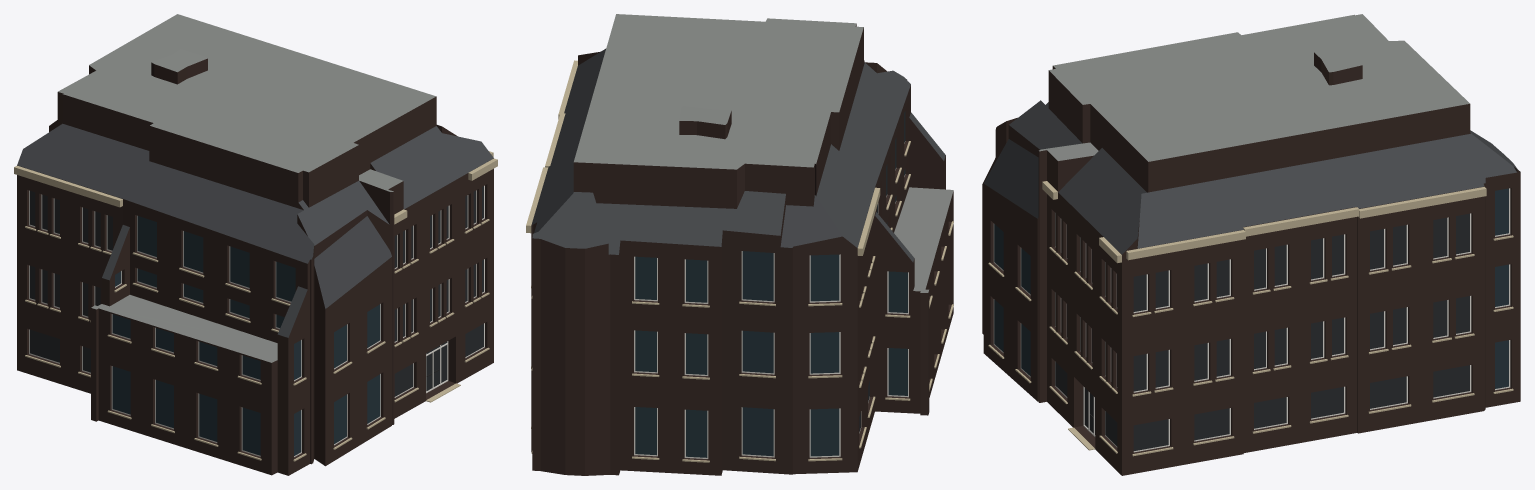
Rendered from recipe-large-emmalaan-4-236822.glb.
3 renders of one model, left to right at view 1: azimuth 30°, elevation 25°; view 2: azimuth 150°, elevation 25°; view 3: azimuth 270°, elevation 25°, orthographic. The views are drawn at different scales.
Parts seen in each view (by area): view 1: emmalaan-4-236822; view 2: emmalaan-4-236822; view 3: emmalaan-4-236822.
Boxes of the visible parts, bbox=[...] form: emmalaan-4-236822: bbox=[14, 14, 497, 475]; emmalaan-4-236822: bbox=[526, 14, 953, 475]; emmalaan-4-236822: bbox=[982, 14, 1520, 475].
Size of the model in its own units: 24.84 by 17.98 by 28.81.
